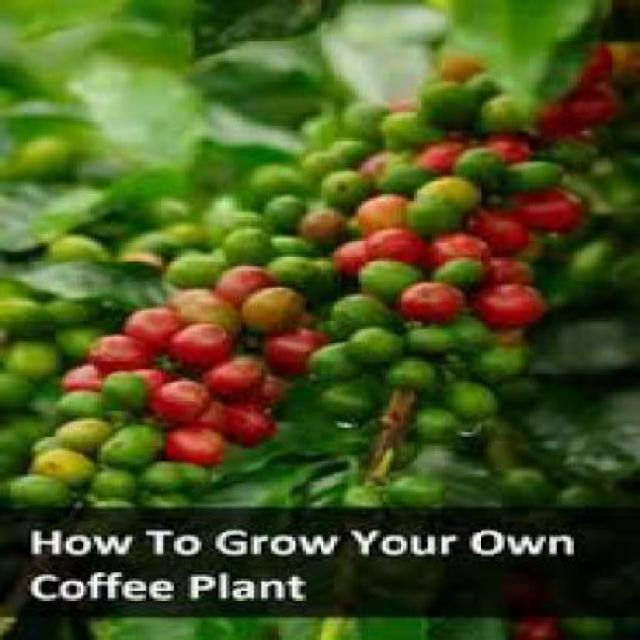RIPE: (74, 257, 535, 428)
